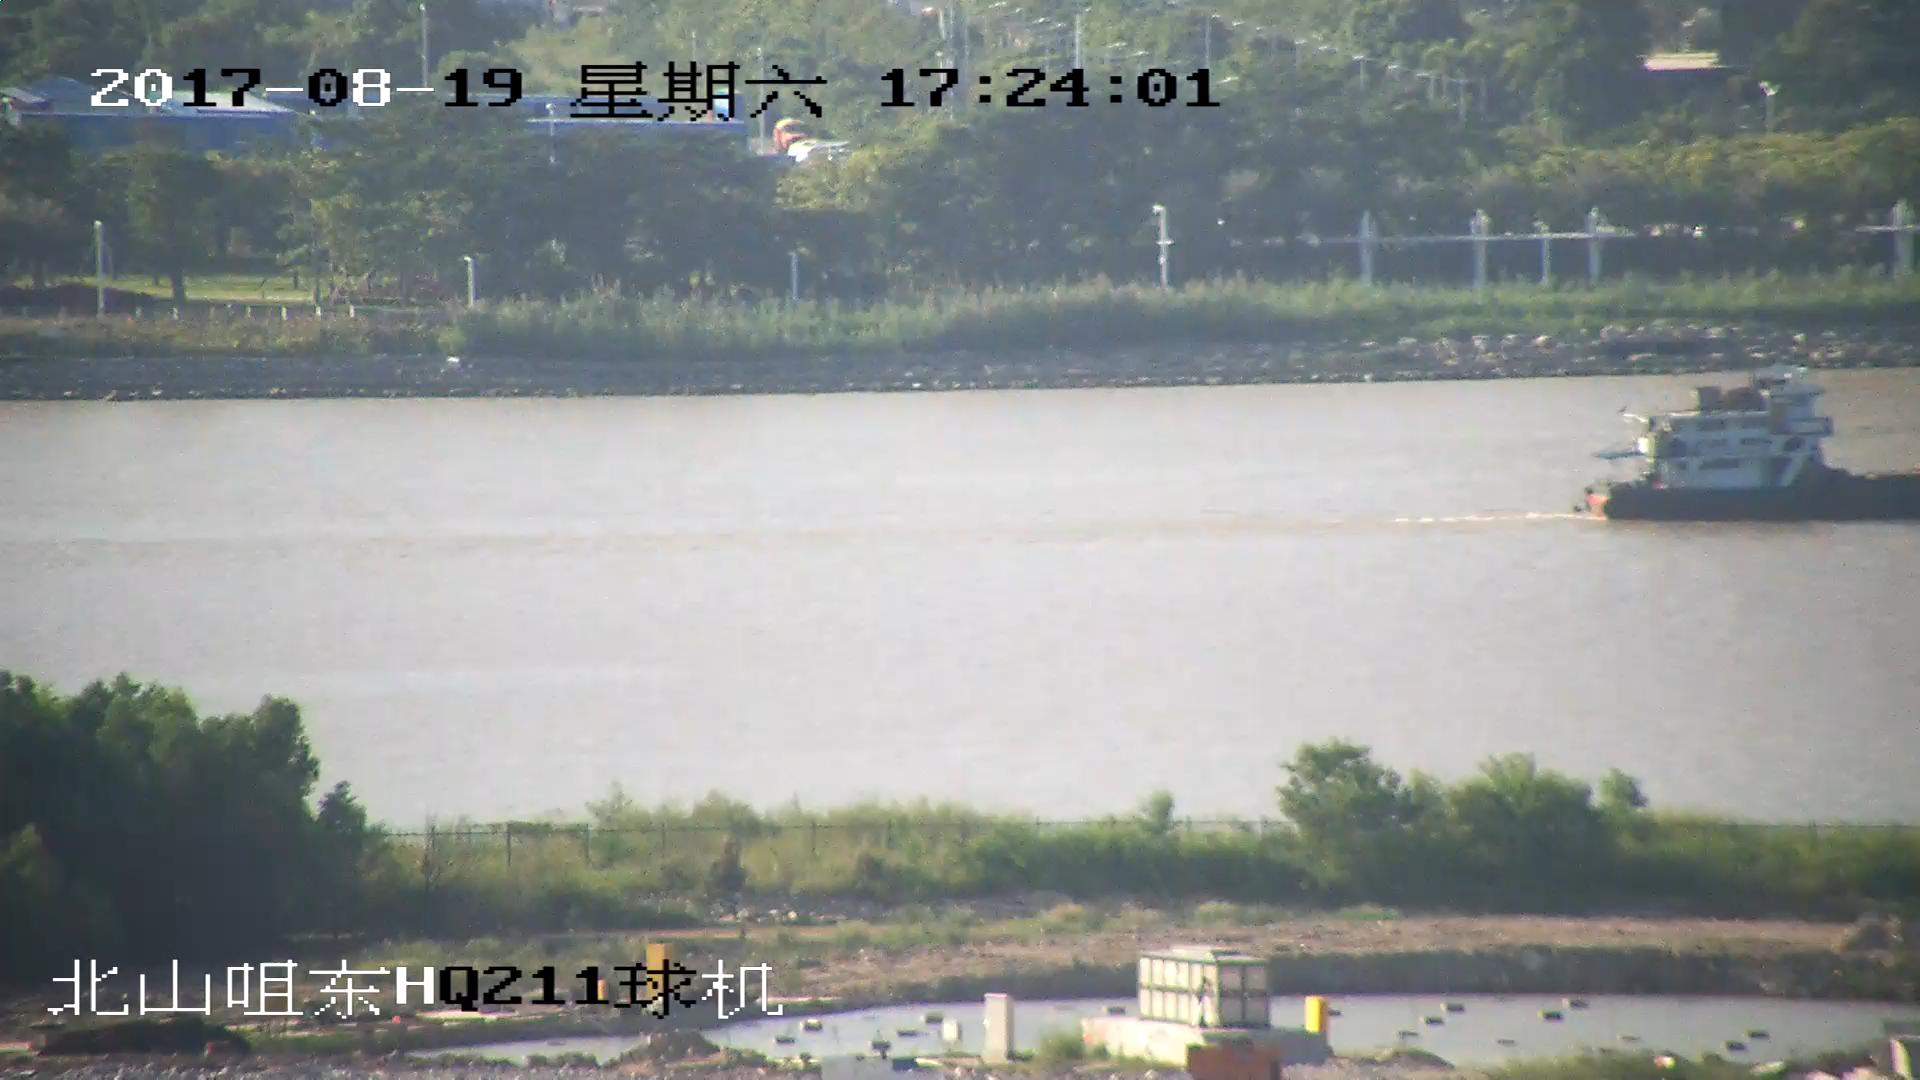bulk cargo carrier: (1579, 379, 1920, 520)
